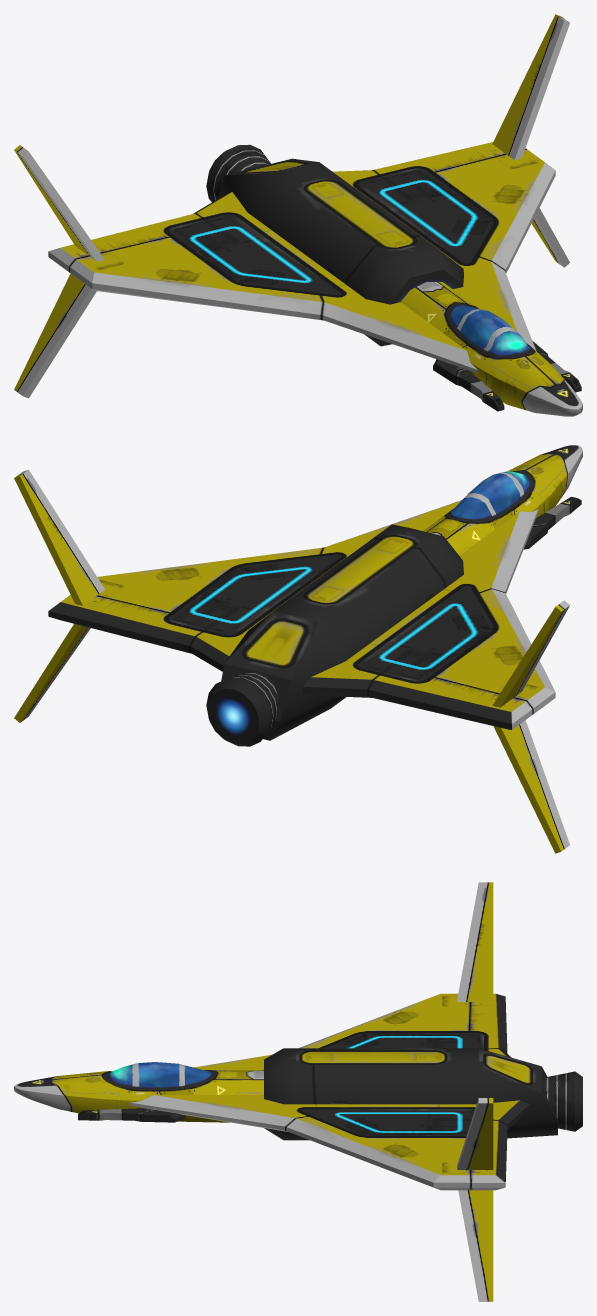
File: YellowBird.fbx
The picture shows the model from 3 angles, top to bottom: view 1: azimuth 30°, elevation 25°; view 2: azimuth 150°, elevation 25°; view 3: azimuth 270°, elevation 25°; orthographic projection. The views are drawn at different scales.
Visible parts, largest first — view 1: StarSparrow08; view 2: StarSparrow08; view 3: StarSparrow08.
Boxes of the visible parts, x1,y1,x2,y2 form: StarSparrow08: (14,14,582,416); StarSparrow08: (14,445,582,853); StarSparrow08: (14,882,582,1301).
Bounding box in the file's own units: 1193 × 514 × 1303.
1 material, 1 textured.
